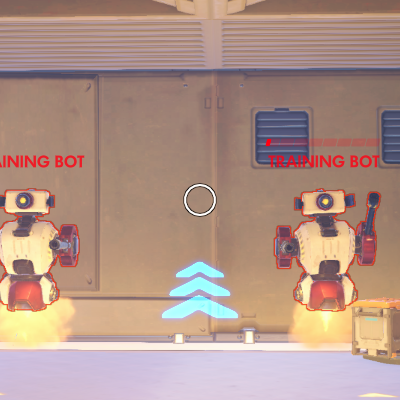hpbar: (265, 138, 381, 147)
